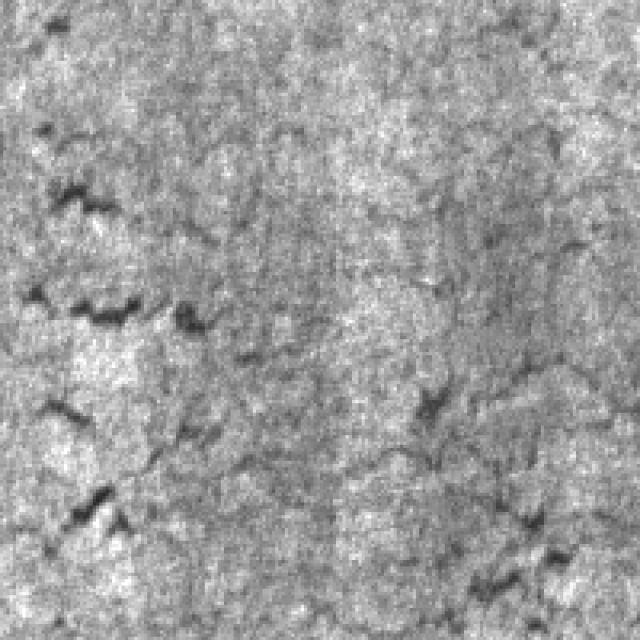crazing: (26, 346, 608, 627), (22, 118, 573, 333)
